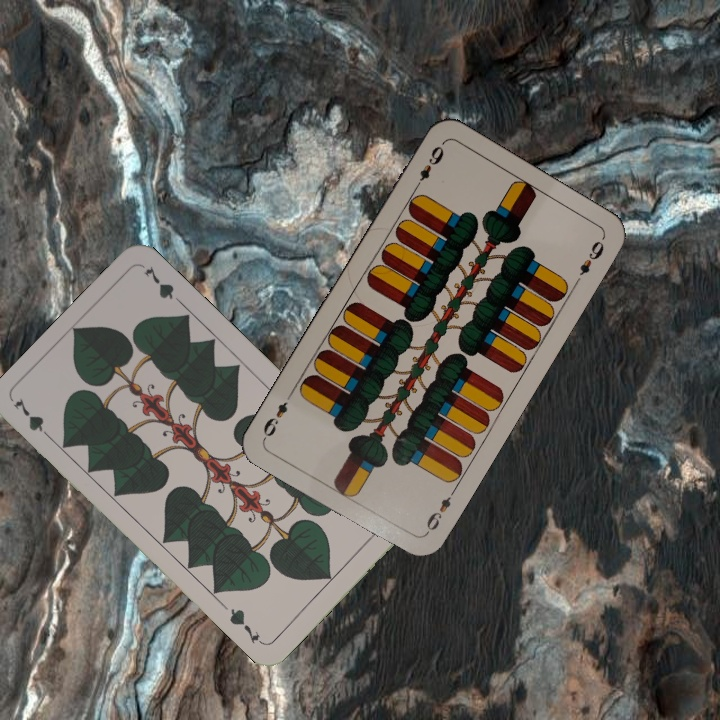E9: (421, 485, 459, 538), (410, 139, 447, 193)
G7: (9, 394, 56, 444)
